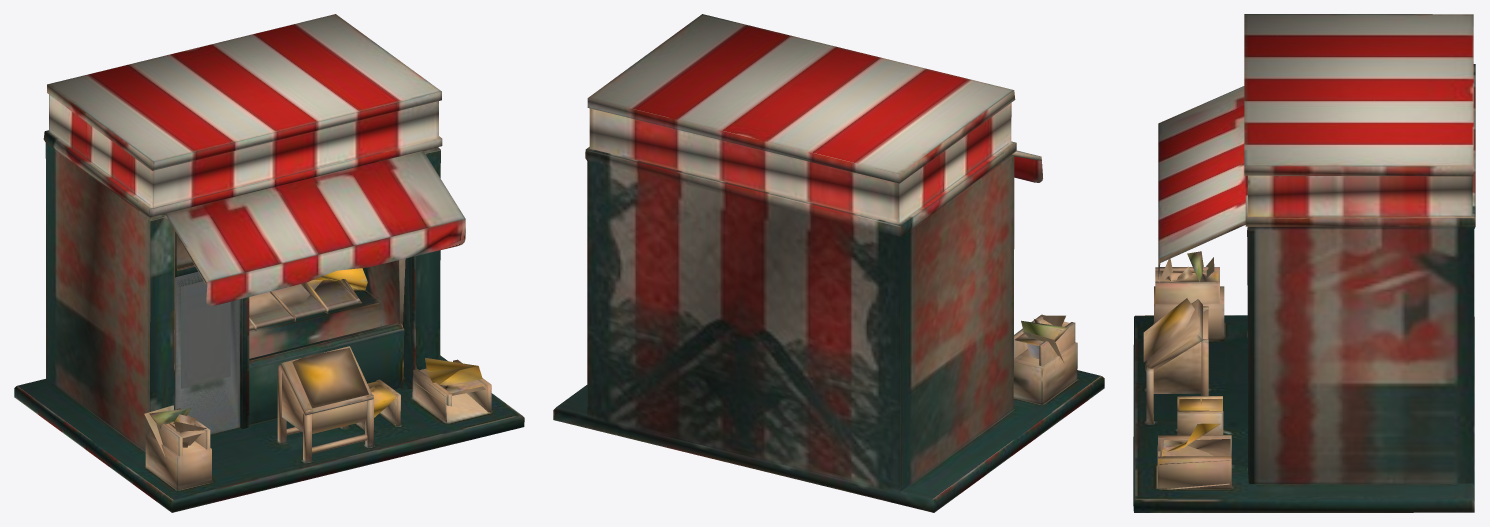
The model's file is shop_awning.glb.
The picture shows the model from 3 angles, left to right: view 1: azimuth 30°, elevation 25°; view 2: azimuth 150°, elevation 25°; view 3: azimuth 270°, elevation 25°; orthographic projection. The views are drawn at different scales.
Bounding box in the file's own units: 4 × 3.32 × 3.12.
Materials: 1 (1 with a texture image).
